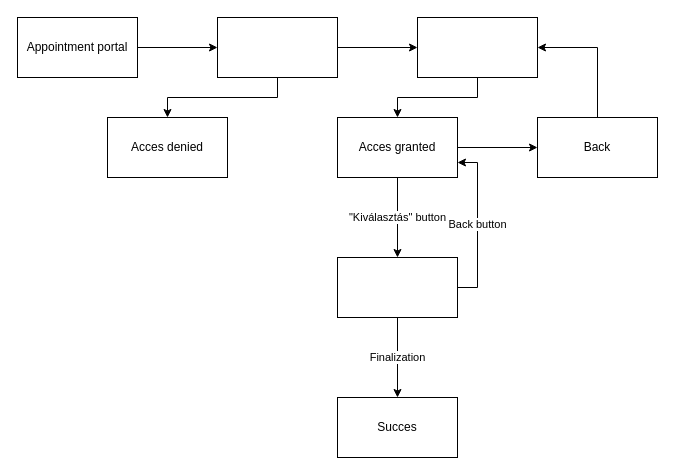
Some shapes in this 675 by 475 pixel diagram are drawn without their labels. The centre of each missing label's shape, as x and y in pixels:
"All the required fields are filled with valid data" goes at pixel 477 47.
"Appointment chosen" goes at pixel 397 287.
"Required fields are partially filled in or are invalid" goes at pixel 277 47.
